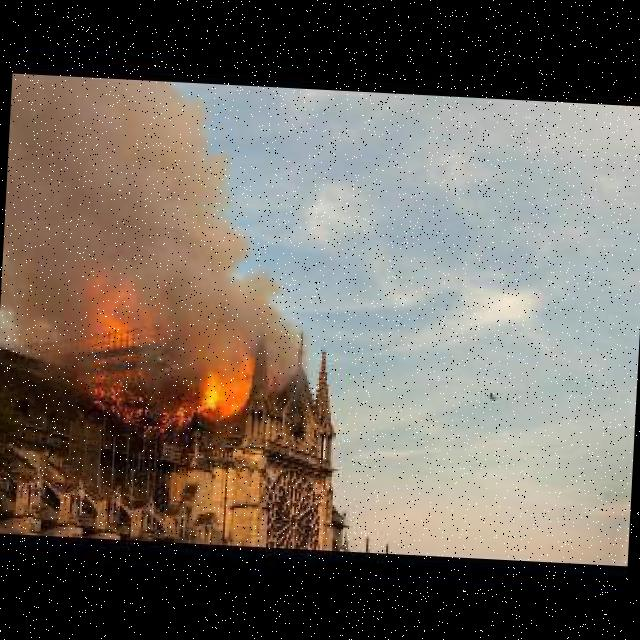fire: (74, 270, 305, 440)
